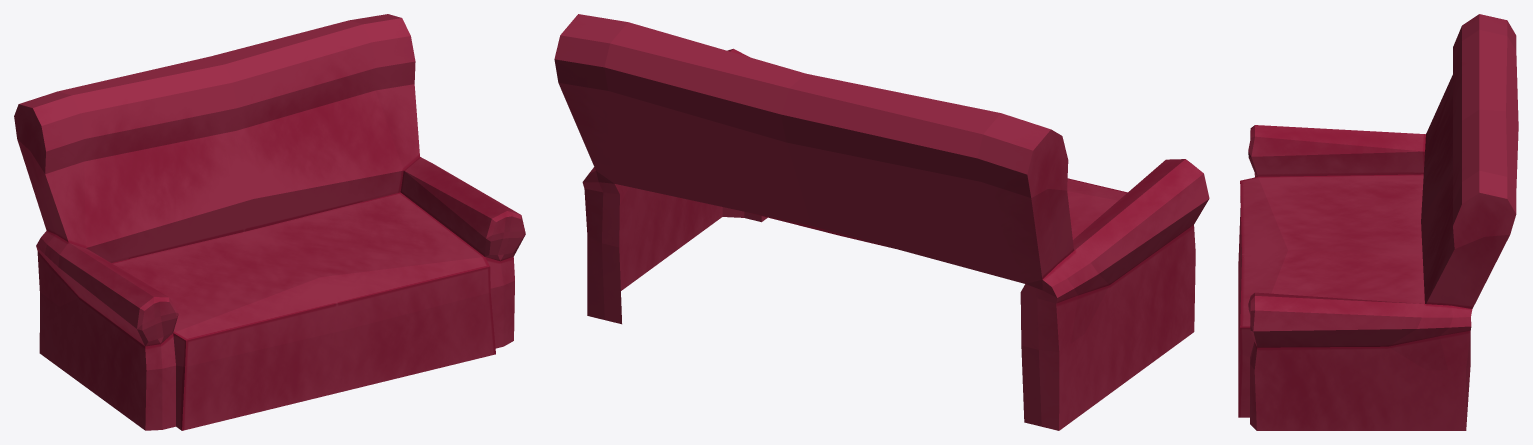
The model's file is Sofa_twoseat_main.fbx.
3 views of the same model, side by side, from view 1: azimuth 30°, elevation 25°; view 2: azimuth 150°, elevation 25°; view 3: azimuth 270°, elevation 25° (orthographic). The views are drawn at different scales.
Parts seen in each view (by area): view 1: Sofa_Twoseat_Low; view 2: Sofa_Twoseat_Low; view 3: Sofa_Twoseat_Low.
Part boxes in pixels (x1,y1,x2,y2): Sofa_Twoseat_Low: (14,14,525,430); Sofa_Twoseat_Low: (554,14,1209,430); Sofa_Twoseat_Low: (1238,14,1518,430).
Bounding box in the file's own units: 160 × 95.54 × 100.
Materials: 1 (1 with a texture image).
